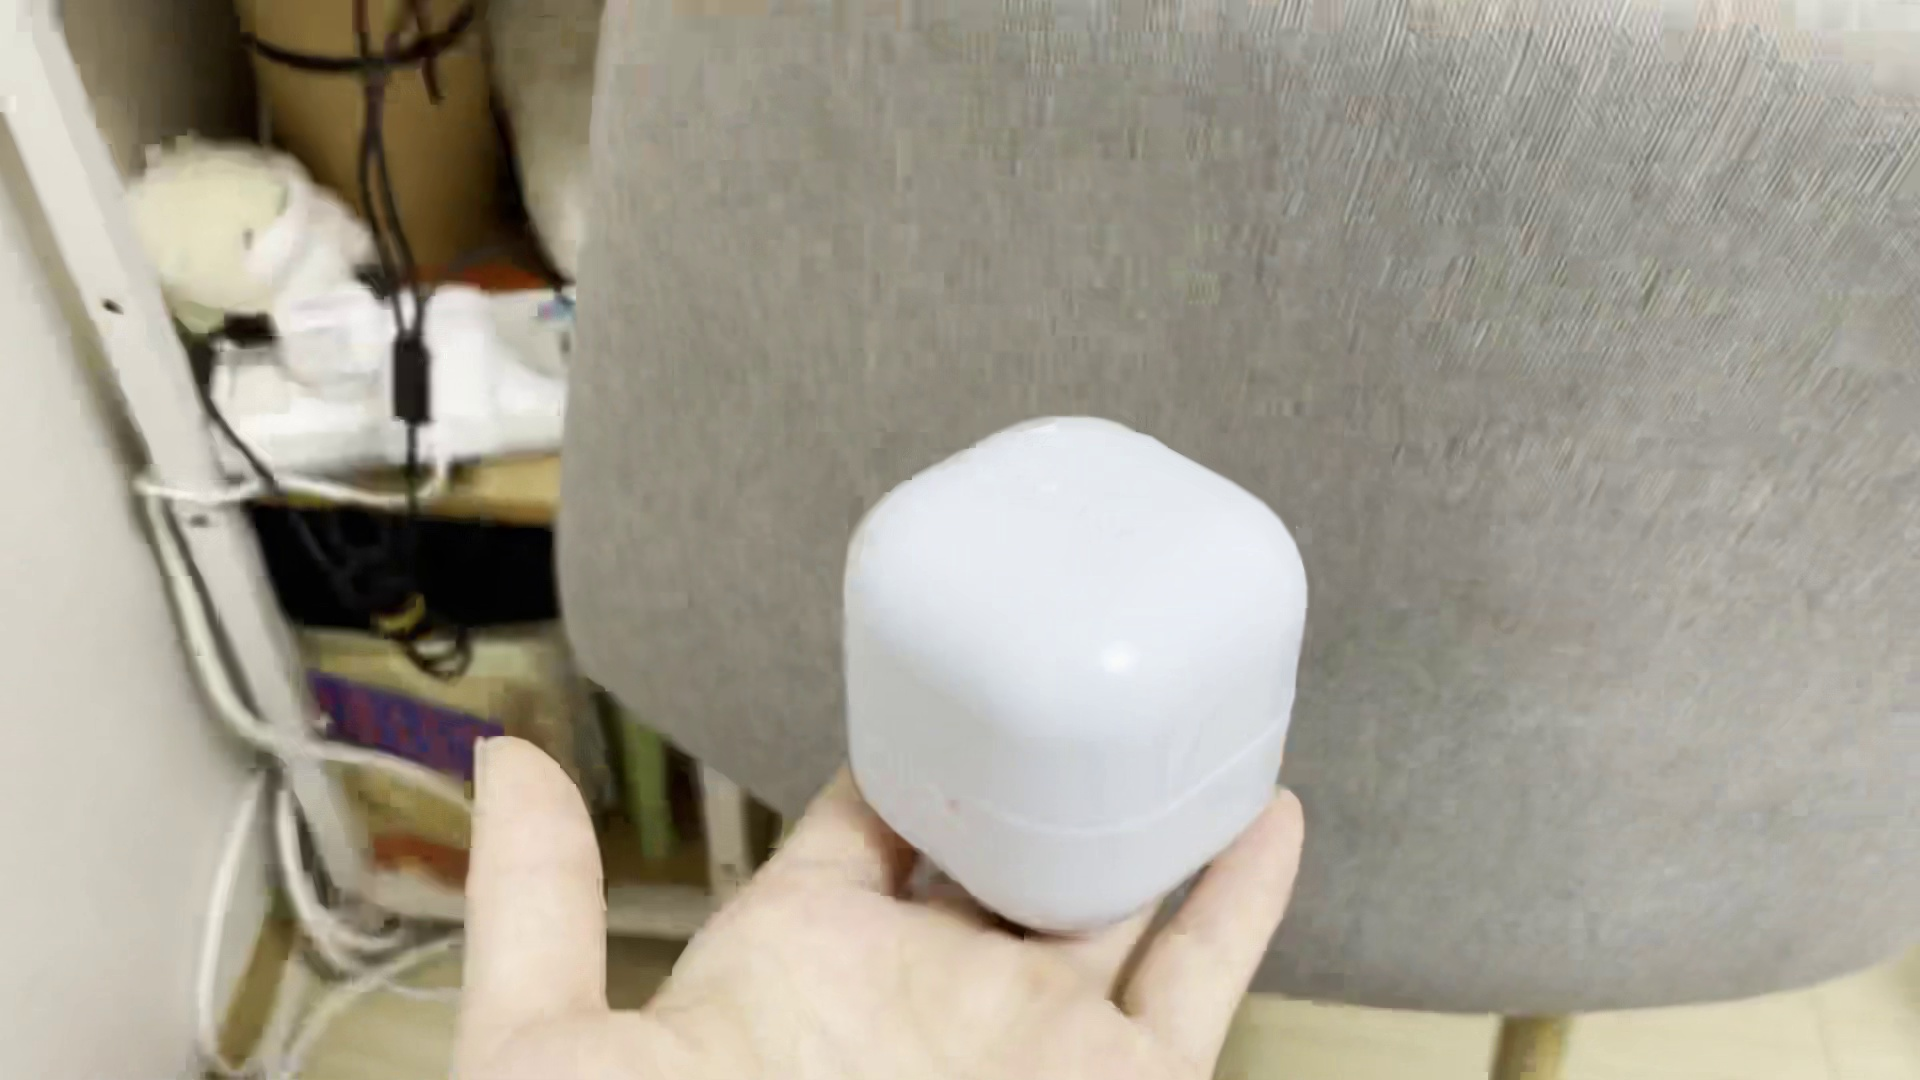cream: (844, 418, 1308, 934)
